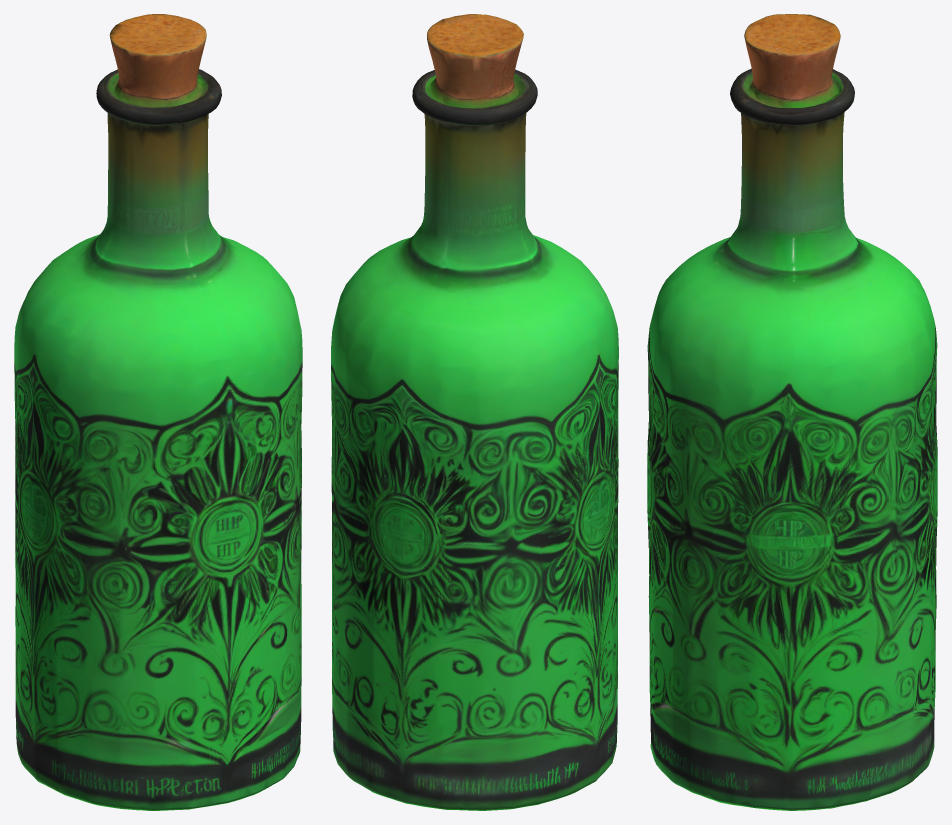
File: hp_portion.glb
3 views of the same model, side by side, from view 1: azimuth 30°, elevation 25°; view 2: azimuth 150°, elevation 25°; view 3: azimuth 270°, elevation 25° (orthographic).
Bounding box in the file's own units: 0.7308 × 2 × 0.7308.
Materials: 1 (1 with a texture image).
